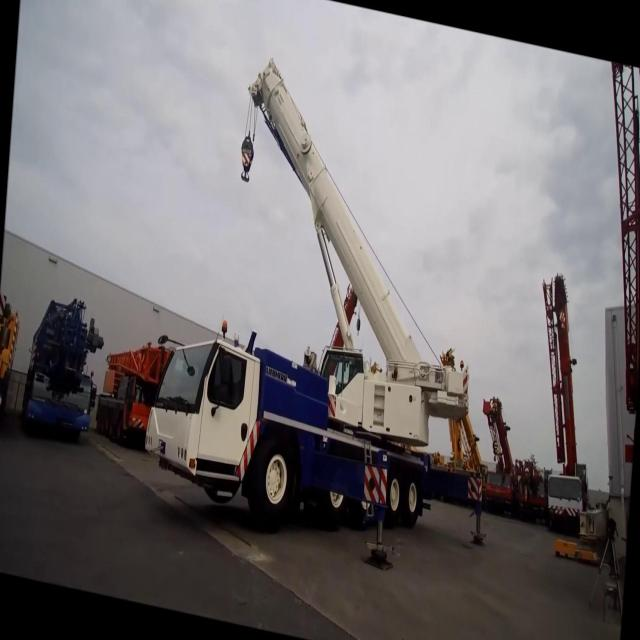crane: (138, 30, 518, 596)
